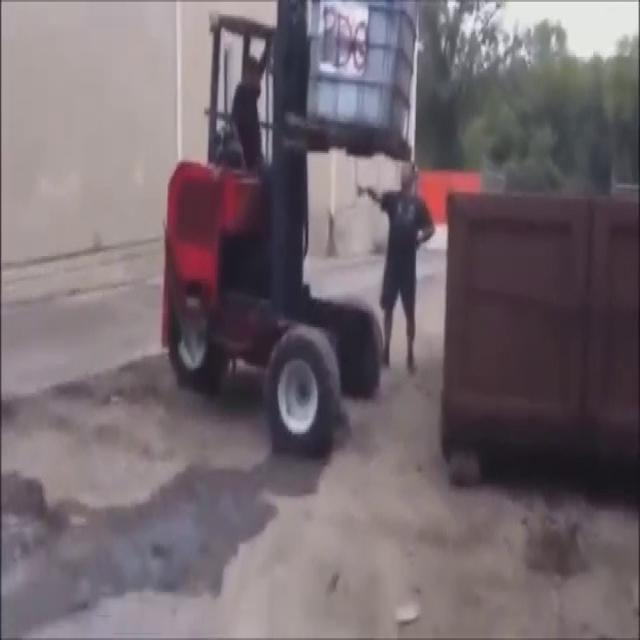Chariot elevateur: (157, 2, 418, 466)
